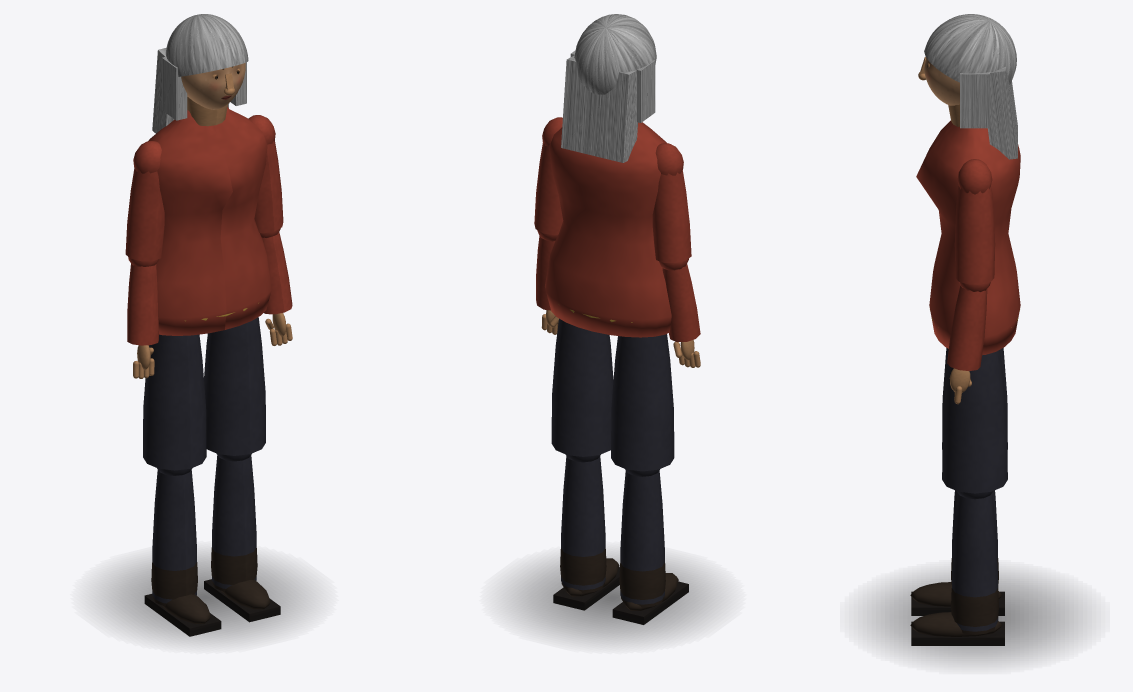
File: npc_patron3.glb
3 renders of one model, left to right at view 1: azimuth 30°, elevation 25°; view 2: azimuth 150°, elevation 25°; view 3: azimuth 270°, elevation 25°, orthographic. The views are drawn at different scales.
Visible parts, largest first — view 1: chest, object 11, head, legL, legR, shinL, shinR, armL, foreL, foreR, armR; view 2: chest, head, object 11, legL, legR, shinL, shinR, armL, foreL, armR, foreR; view 3: chest, object 11, head, shinR, legR, armR, foreR, shinL, legL.
Part boxes in pixels (x1=…): chest: x1=148, y1=97, x2=271, y2=335; object 11: x1=98, y1=552, x2=310, y2=642; head: x1=152, y1=14, x2=248, y2=133; legL: x1=143, y1=334, x2=206, y2=470; legR: x1=204, y1=317, x2=265, y2=455; shinL: x1=144, y1=468, x2=221, y2=636; shinR: x1=204, y1=453, x2=280, y2=622; armL: x1=125, y1=141, x2=164, y2=261; foreL: x1=127, y1=256, x2=158, y2=378; foreR: x1=260, y1=228, x2=292, y2=345; armR: x1=248, y1=115, x2=283, y2=233; chest: x1=545, y1=122, x2=671, y2=337; head: x1=561, y1=14, x2=656, y2=162; object 11: x1=507, y1=553, x2=719, y2=642; legL: x1=611, y1=334, x2=674, y2=471; legR: x1=551, y1=318, x2=613, y2=456; shinL: x1=612, y1=469, x2=688, y2=624; shinR: x1=553, y1=454, x2=619, y2=610; armL: x1=652, y1=143, x2=691, y2=262; foreL: x1=659, y1=258, x2=700, y2=367; armR: x1=534, y1=117, x2=563, y2=235; foreR: x1=536, y1=230, x2=558, y2=334; chest: x1=916, y1=104, x2=1020, y2=355; object 11: x1=867, y1=572, x2=1082, y2=662; head: x1=918, y1=14, x2=1017, y2=159; shinR: x1=910, y1=491, x2=1004, y2=645; legR: x1=942, y1=350, x2=1007, y2=493; armR: x1=954, y1=159, x2=995, y2=284; foreR: x1=947, y1=282, x2=990, y2=404; shinL: x1=910, y1=490, x2=1004, y2=615; legL: x1=942, y1=348, x2=1007, y2=449.
Size of the model in its own units: 0.77 by 1.79 by 0.77.
Materials: 6 (5 with a texture image).
